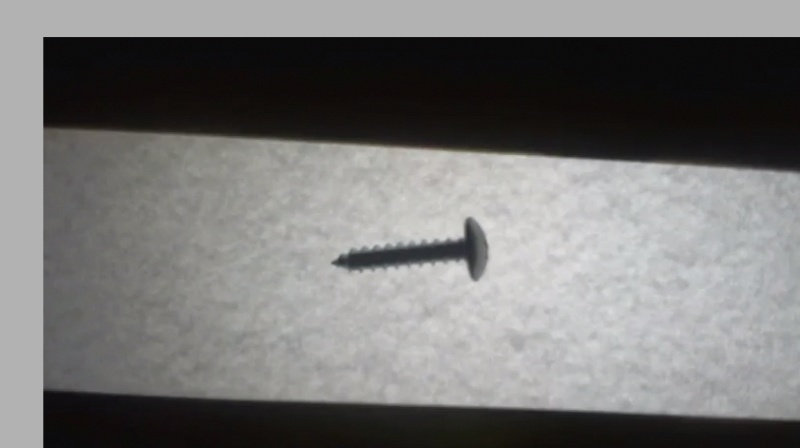S003: (327, 214, 493, 288)
